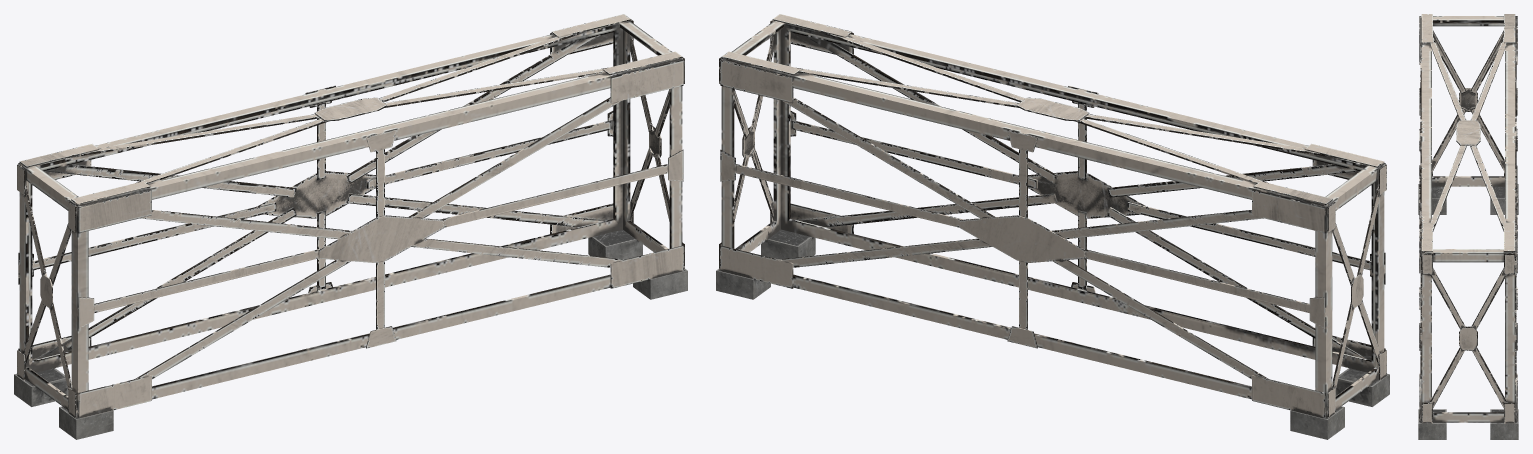
File: jctRoofFrameA.fbx
The picture shows the model from 3 angles, left to right: view 1: azimuth 30°, elevation 25°; view 2: azimuth 150°, elevation 25°; view 3: azimuth 270°, elevation 25°; orthographic projection. The views are drawn at different scales.
Parts seen in each view (by area): view 1: jctRoofFrameA; view 2: jctRoofFrameA; view 3: jctRoofFrameA.
Boxes of the visible parts, x1,y1,x2,y2 form: jctRoofFrameA: (14,14,687,439); jctRoofFrameA: (716,14,1389,439); jctRoofFrameA: (1418,14,1518,439).
Bounding box in the file's own units: 607 × 222 × 107.
